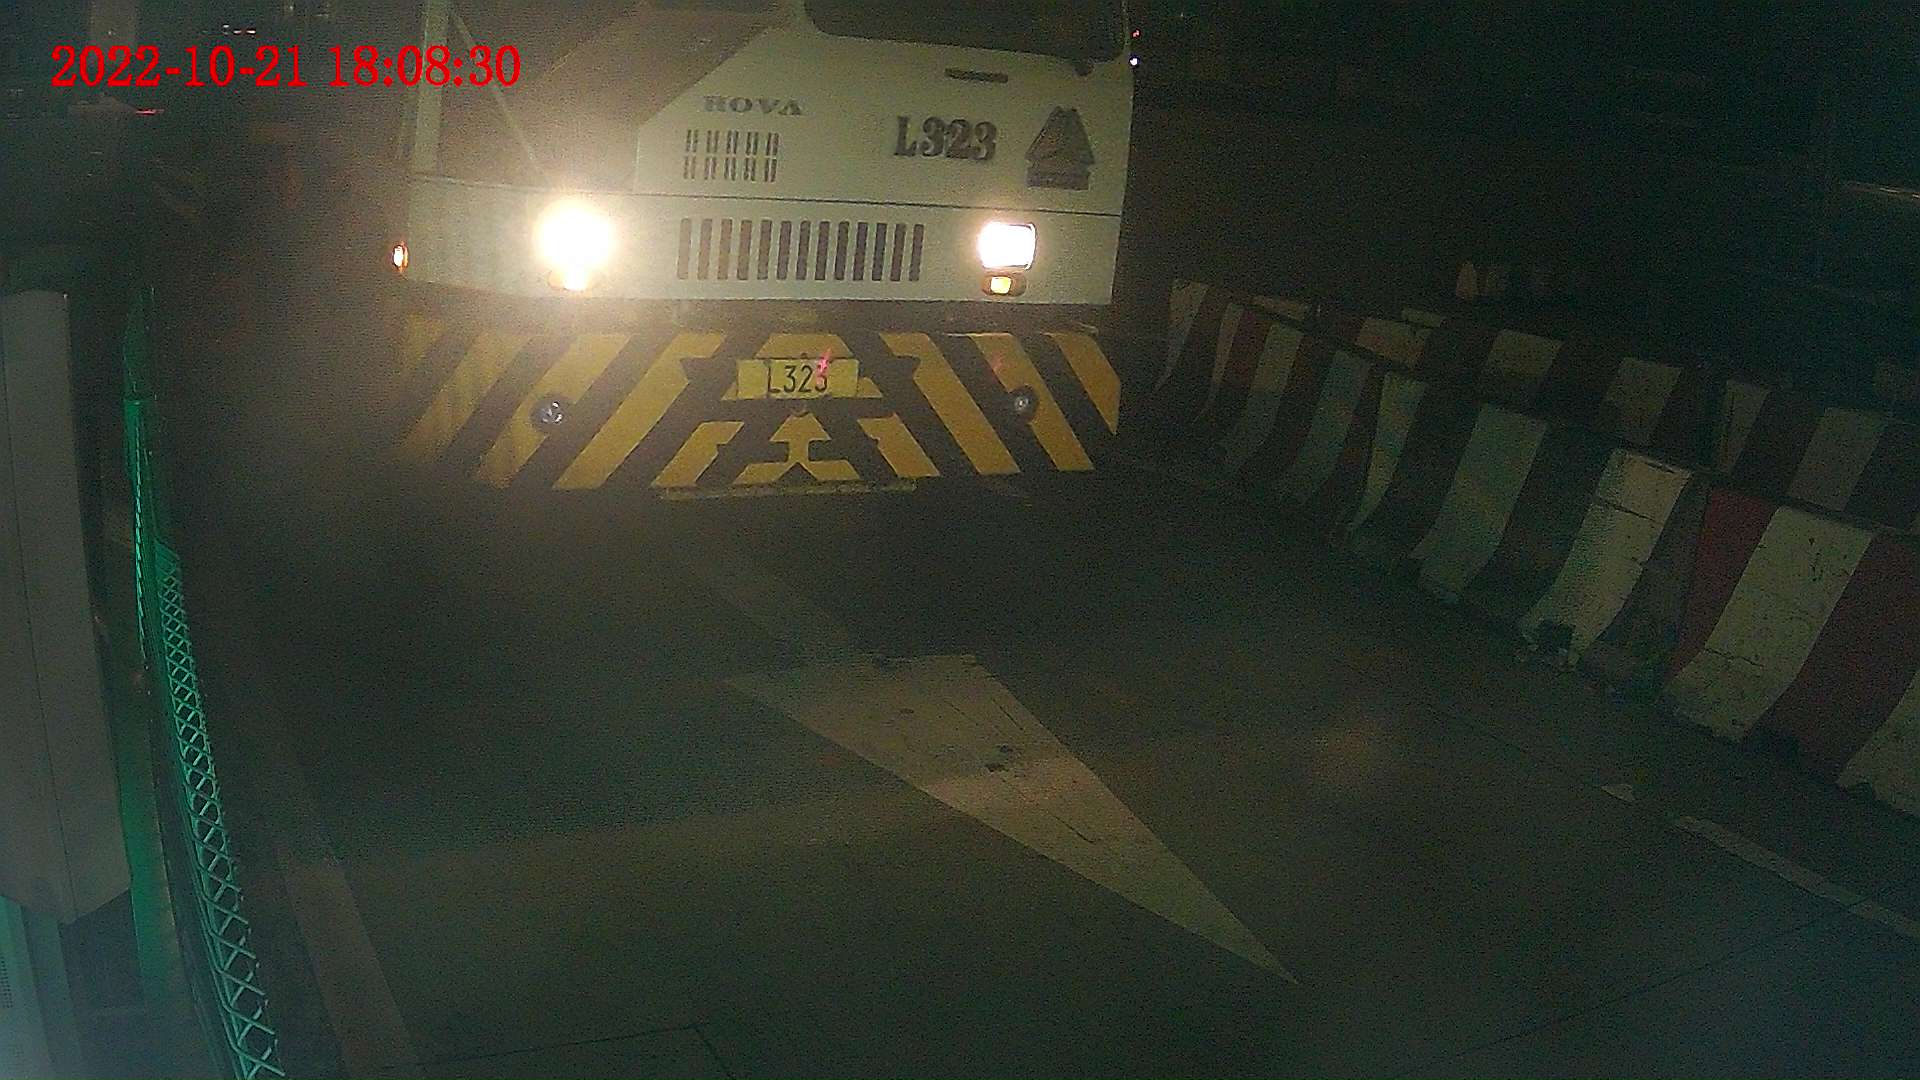head: (325, 1, 1141, 560)
plate: (733, 355, 846, 407)
